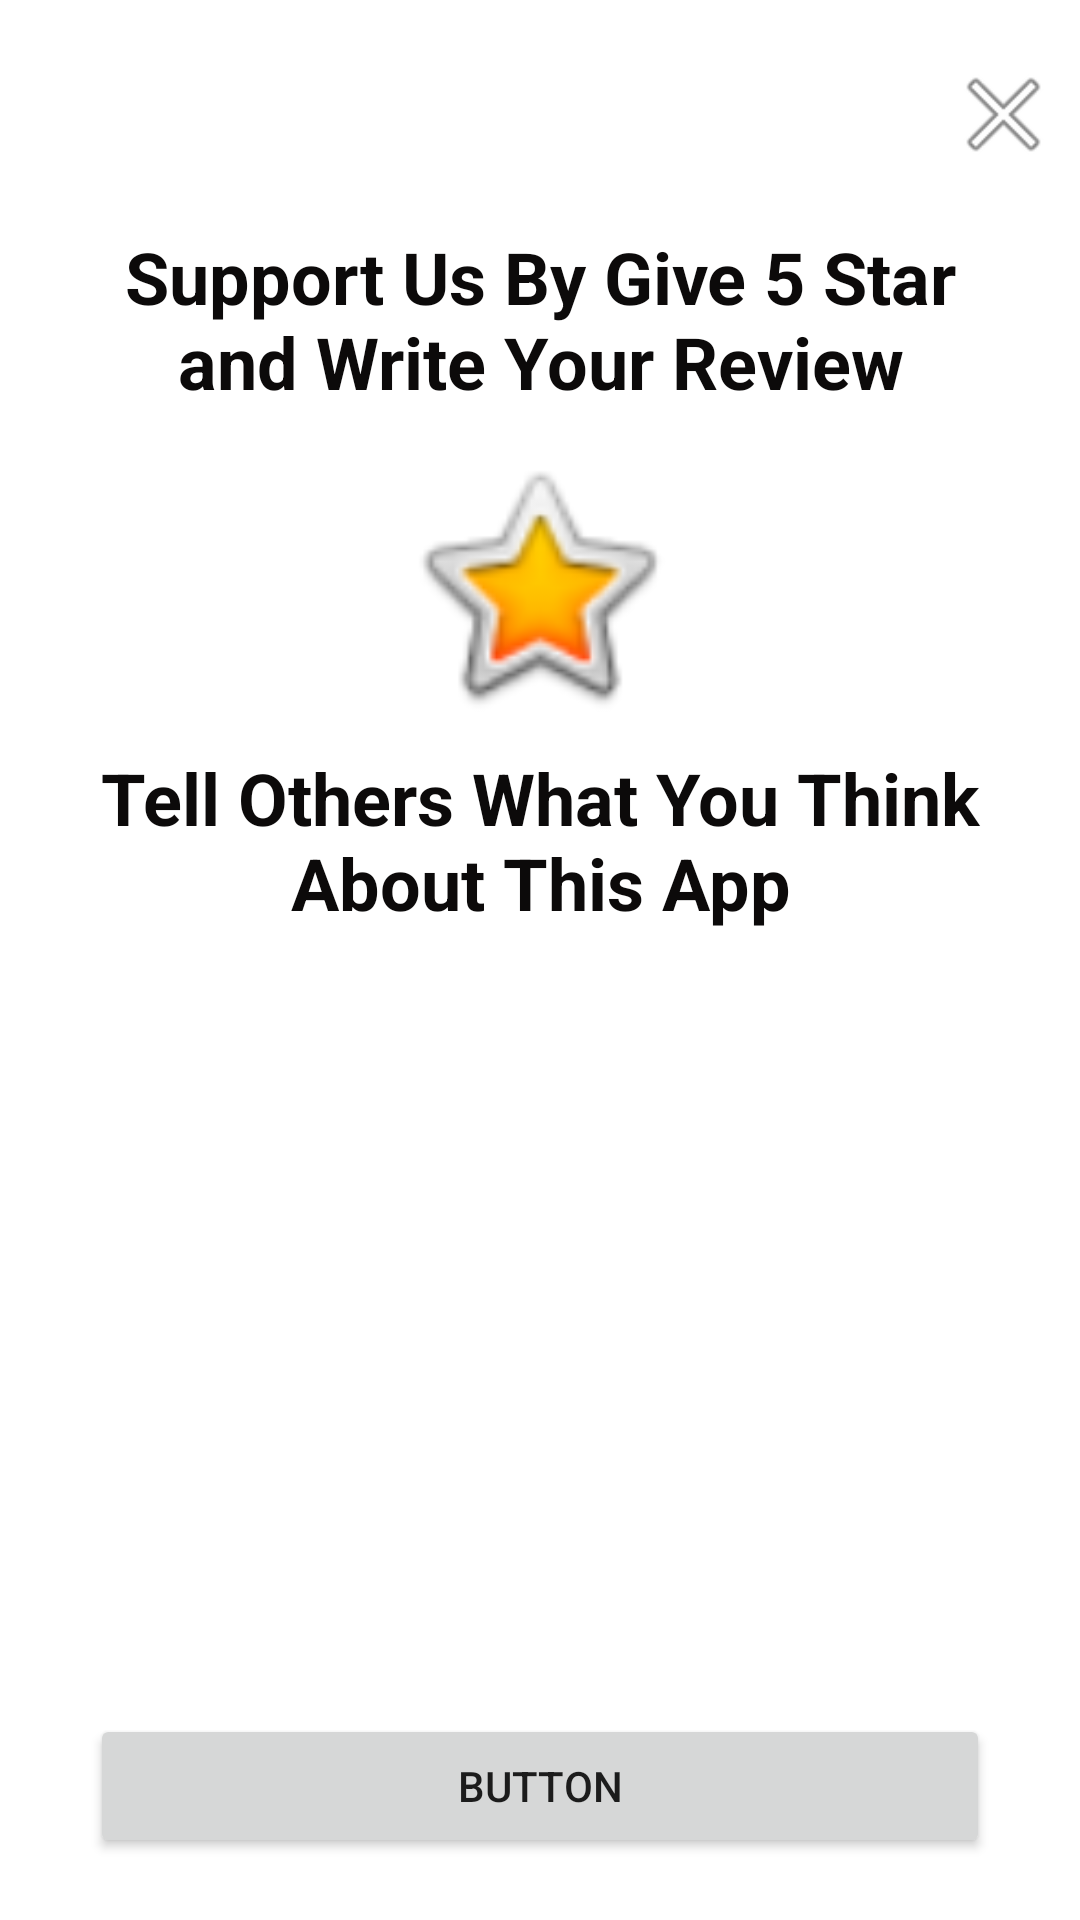

Locate icon controls on the screen. Image size 1080*1920, boxes as (x1, y1, x2, y2).
close clear cancel: (967, 78, 1040, 151)
star on: (424, 474, 657, 701)
